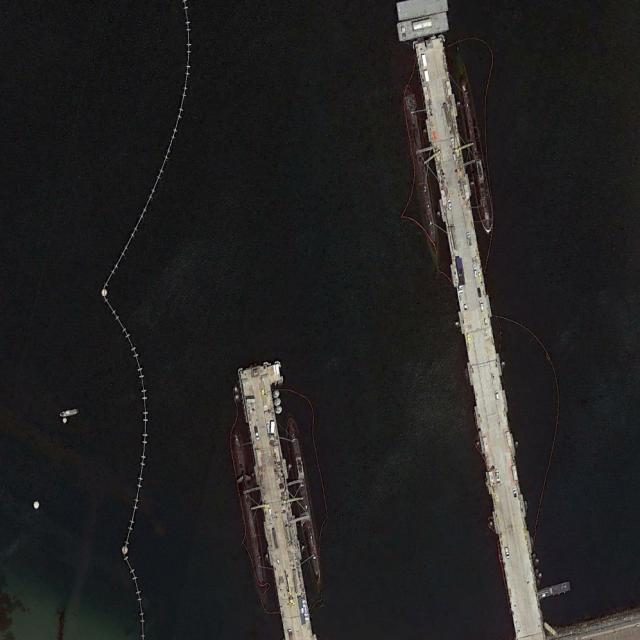Other Ship: (59, 408, 80, 419)
Submarine: (279, 411, 331, 604), (225, 421, 272, 609), (401, 88, 447, 278), (456, 71, 499, 237)
